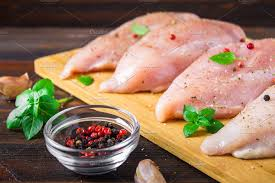Chicken: (105, 24, 229, 110)
